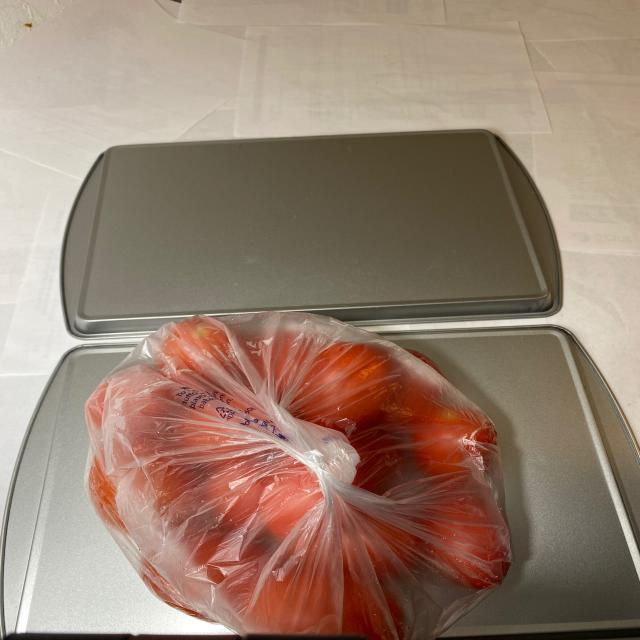tomato: (90, 321, 514, 639)
